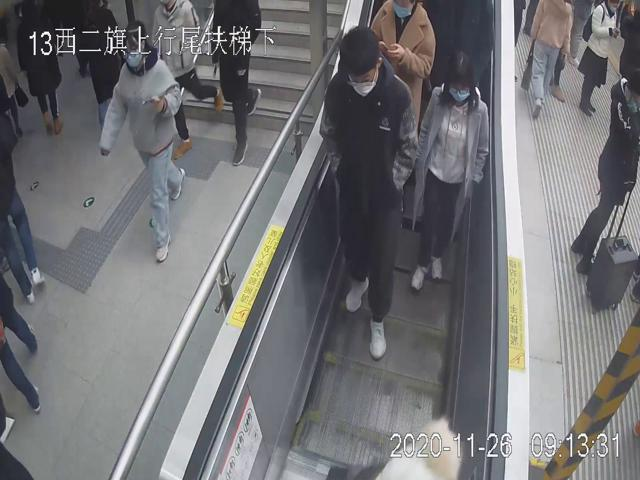person: (318, 25, 419, 361), (98, 20, 186, 264), (406, 46, 490, 293)
